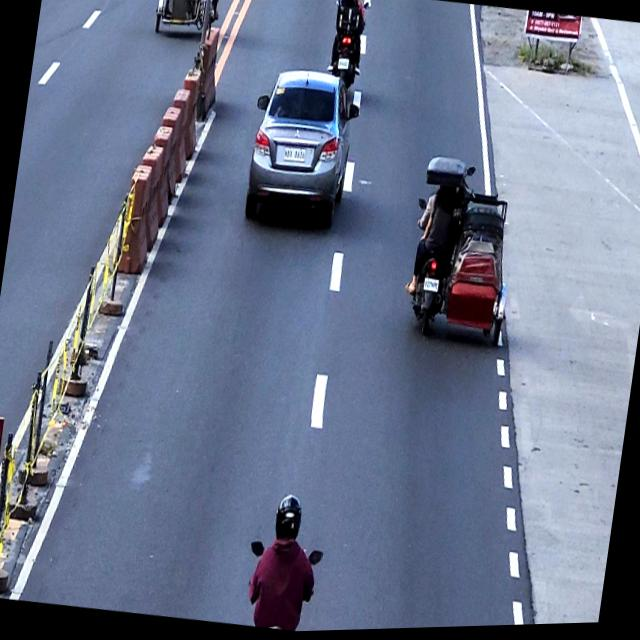Car: (240, 64, 364, 233)
License-Plate: (282, 147, 308, 166), (422, 280, 440, 297), (338, 60, 350, 72)
Motorcycle: (239, 535, 326, 634), (324, 0, 372, 91)
Tricycle: (399, 153, 526, 352), (153, 0, 226, 40)
